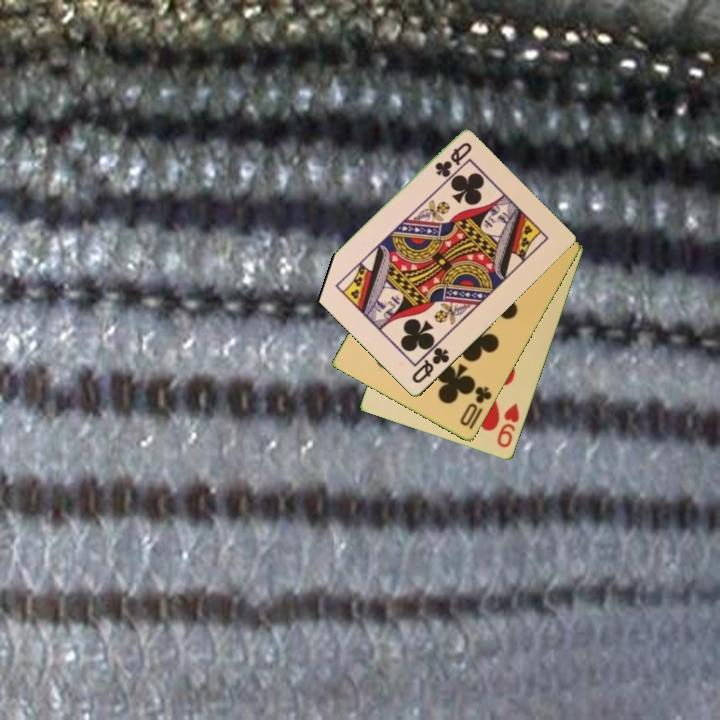10c: (456, 383, 495, 429)
9h: (493, 400, 522, 451)
Qc: (408, 344, 452, 386), (431, 139, 475, 180)
